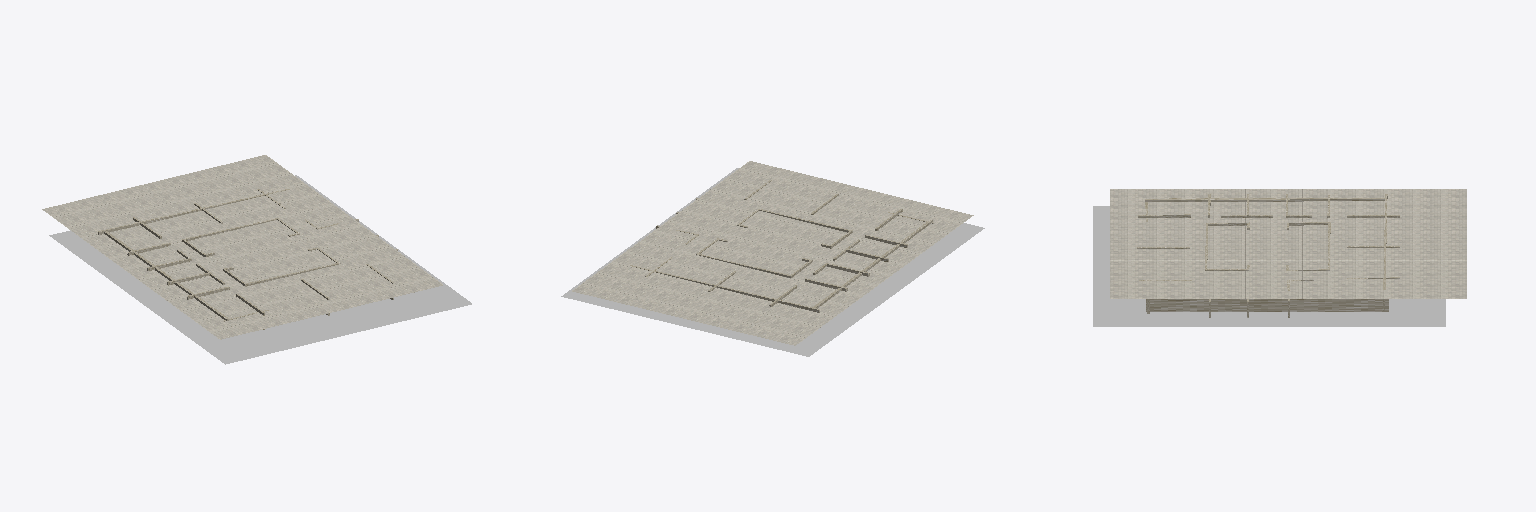
3 renders of one model, left to right at view 1: azimuth 30°, elevation 25°; view 2: azimuth 150°, elevation 25°; view 3: azimuth 270°, elevation 25°, orthographic.
Visible parts, largest first — view 1: Plane.001, Plane, Cube; view 2: Plane.001, Plane; view 3: Plane.001, Plane, Cube.003, Cube.
Part boxes in pixels (x1,y1,x2,y2): Plane.001: (42, 155, 442, 339); Plane: (49, 175, 471, 364); Cube: (104, 231, 228, 320); Plane.001: (572, 161, 973, 345); Plane: (561, 168, 984, 356); Plane.001: (1110, 189, 1466, 298); Plane: (1093, 206, 1445, 326); Cube.003: (1146, 299, 1388, 311); Cube: (1145, 198, 1384, 201).
Size of the model in its own units: 97.19 by 8.19 by 127.
9 materials, 2 textured.